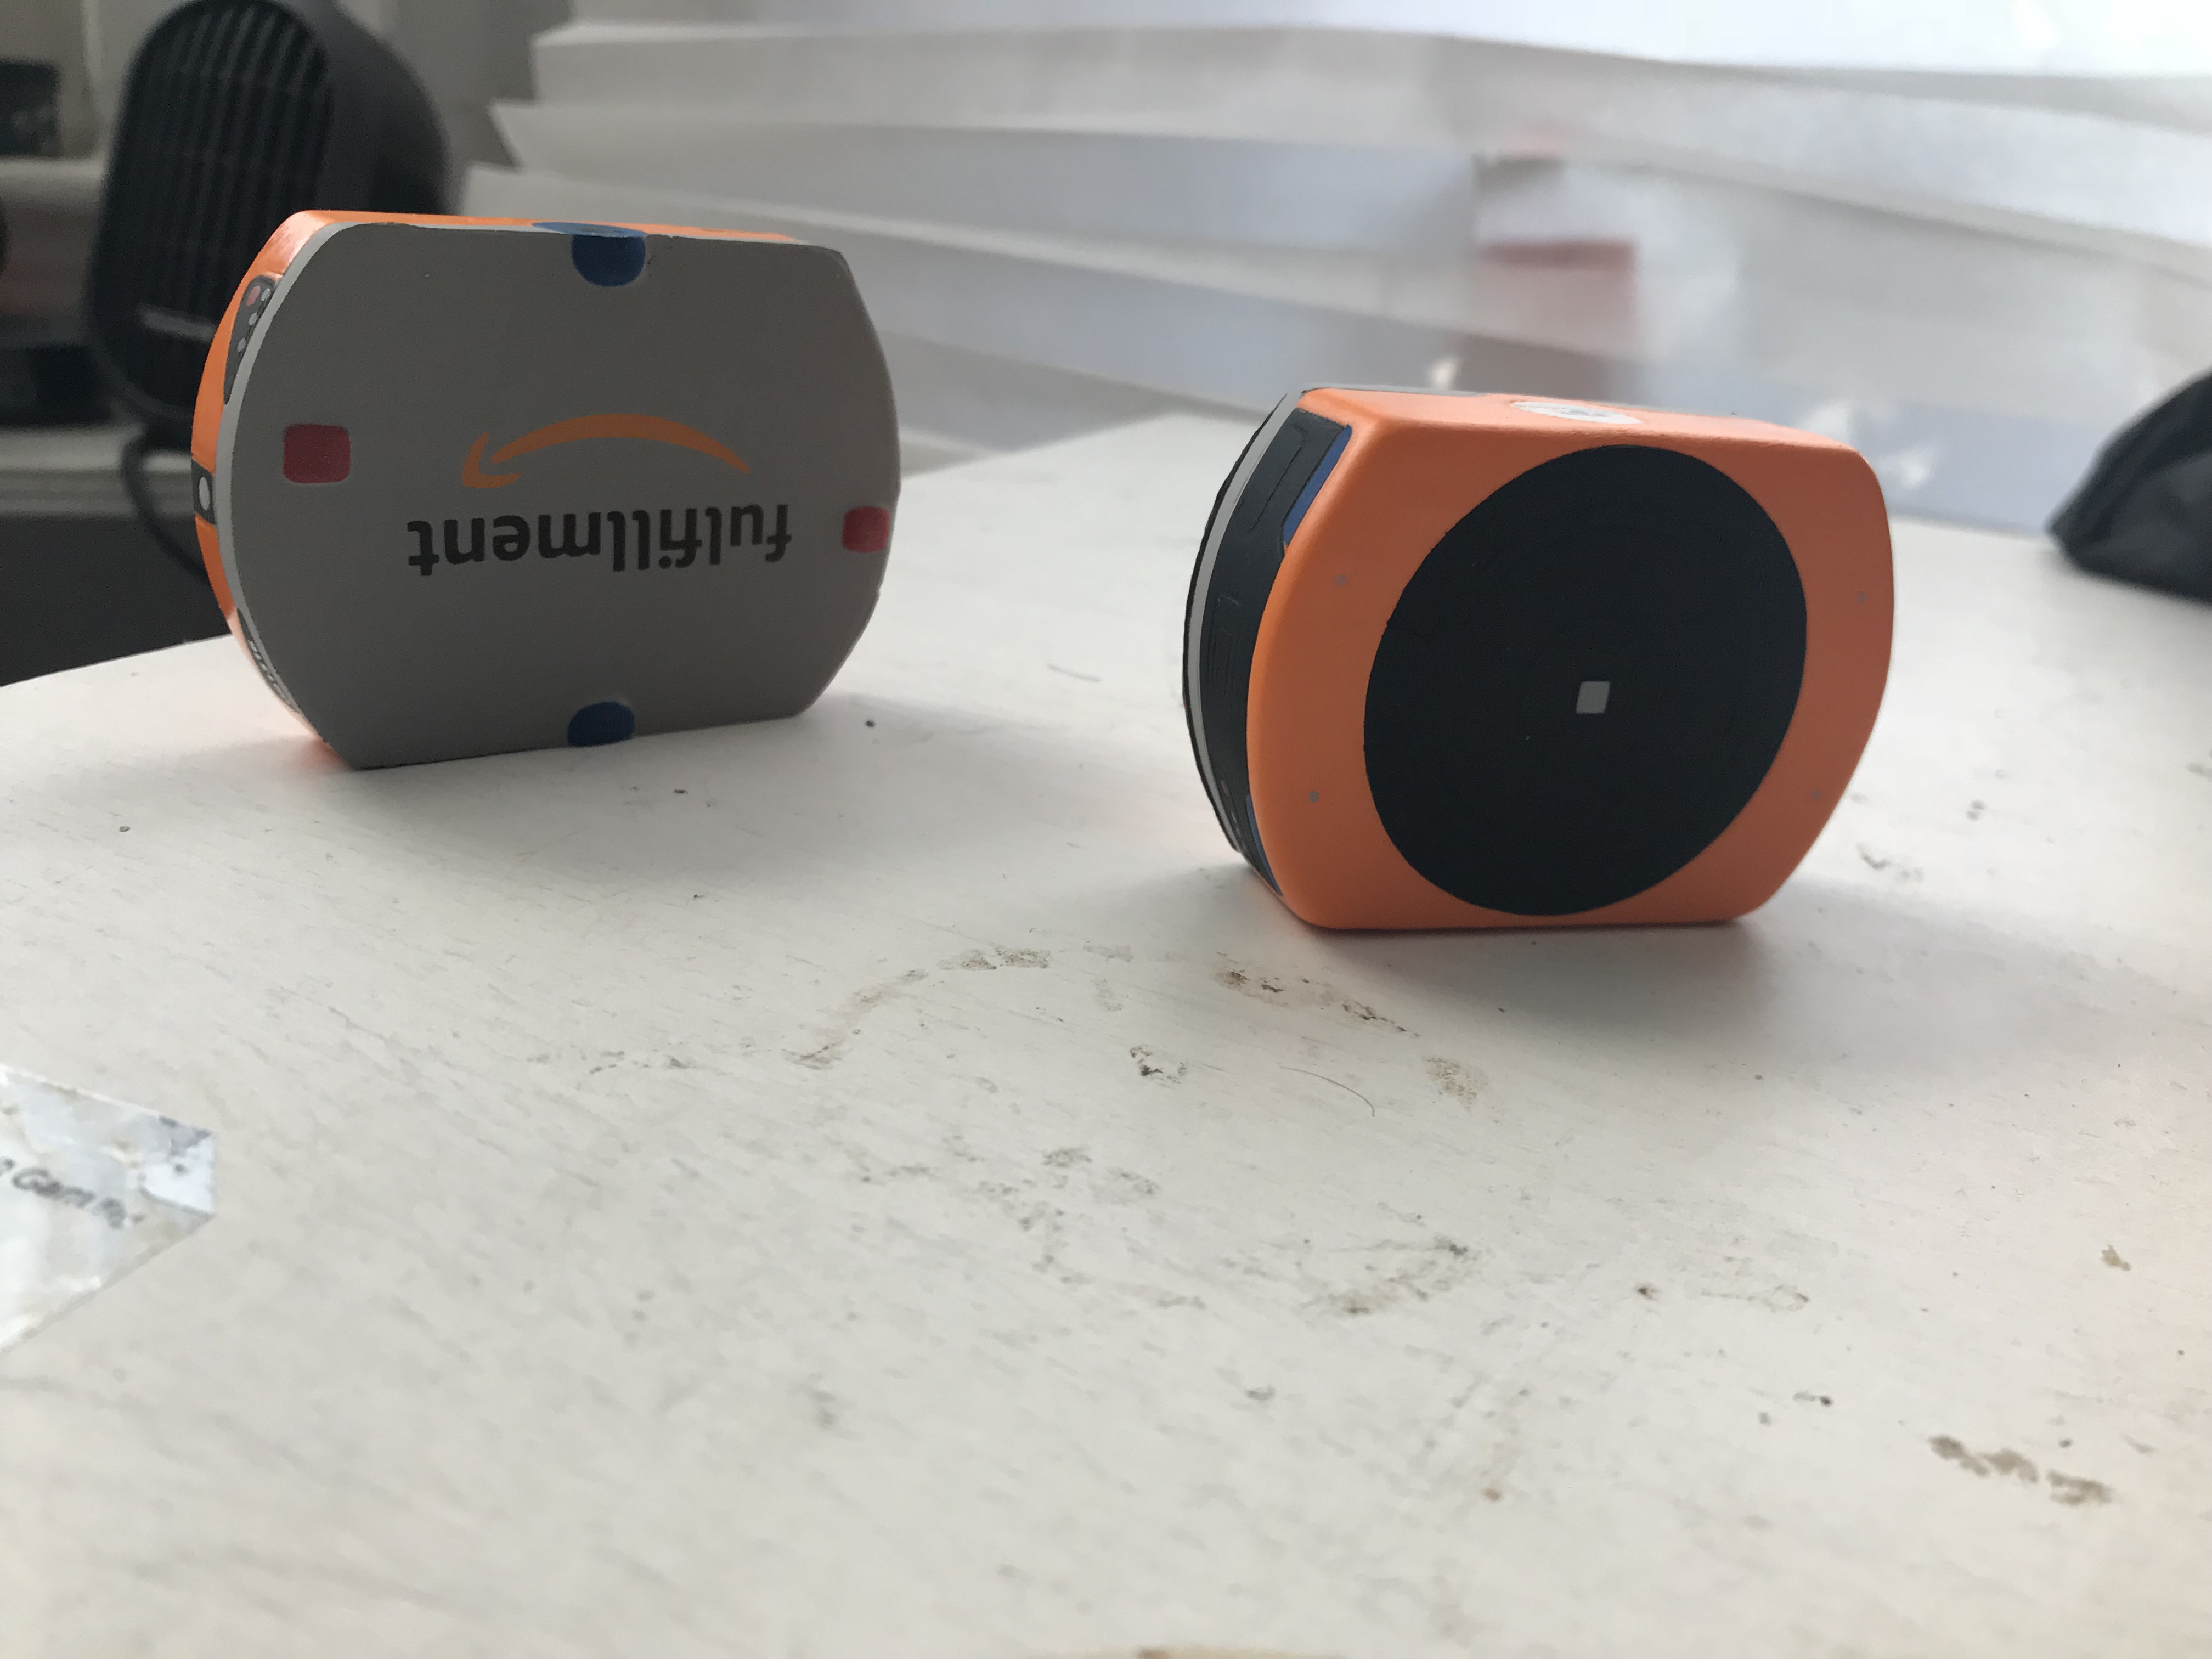amazon_bot: (1160, 378, 1923, 965), (190, 188, 911, 769)
